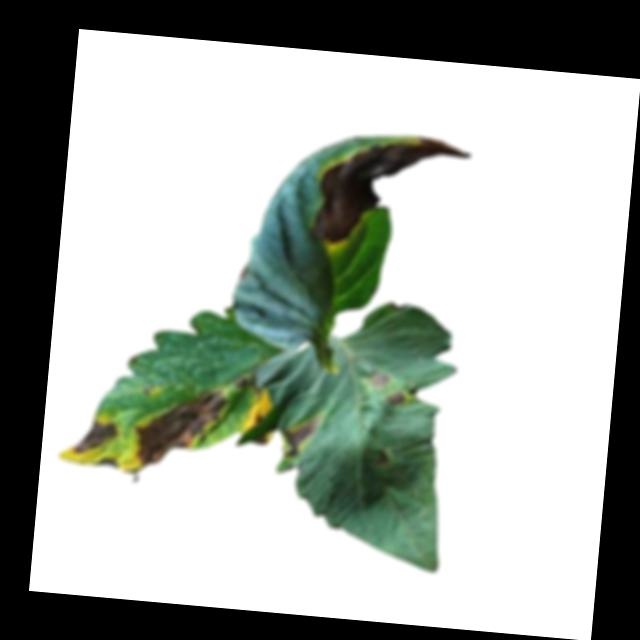Early_blight: (305, 128, 473, 258), (132, 379, 227, 475), (69, 419, 119, 458), (281, 414, 322, 459), (241, 390, 271, 436), (367, 370, 392, 389), (94, 456, 120, 473), (386, 392, 407, 408)
